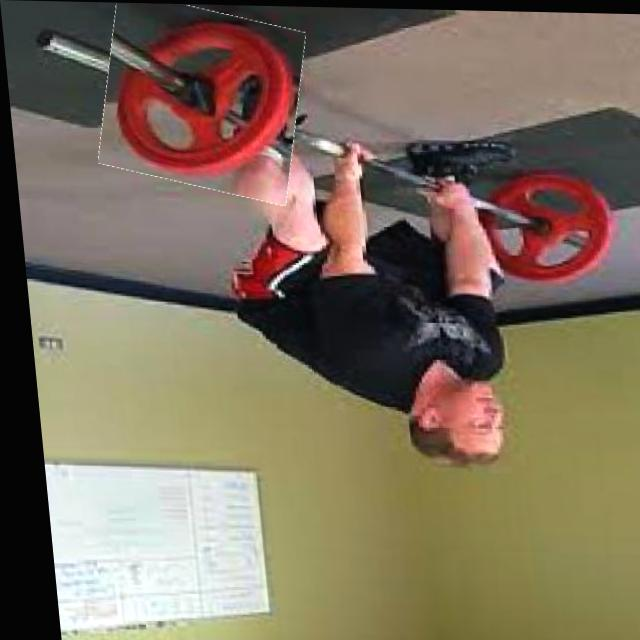barbell: (93, 3, 310, 197)
